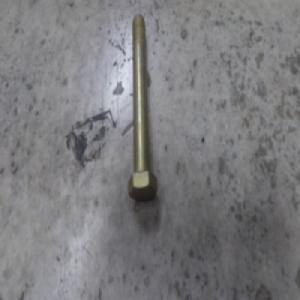Bolt: (126, 12, 158, 202)
